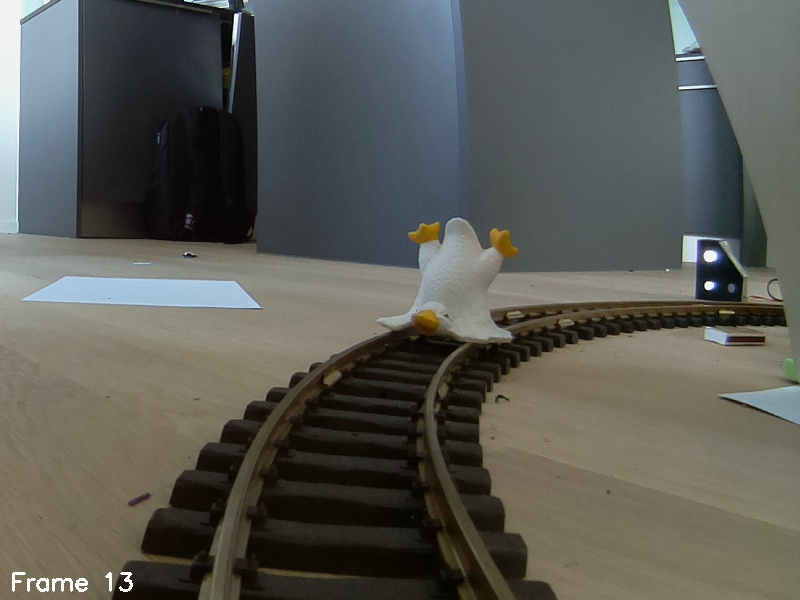Ente: (373, 217, 522, 351)
Fahrt: (694, 239, 746, 306)
